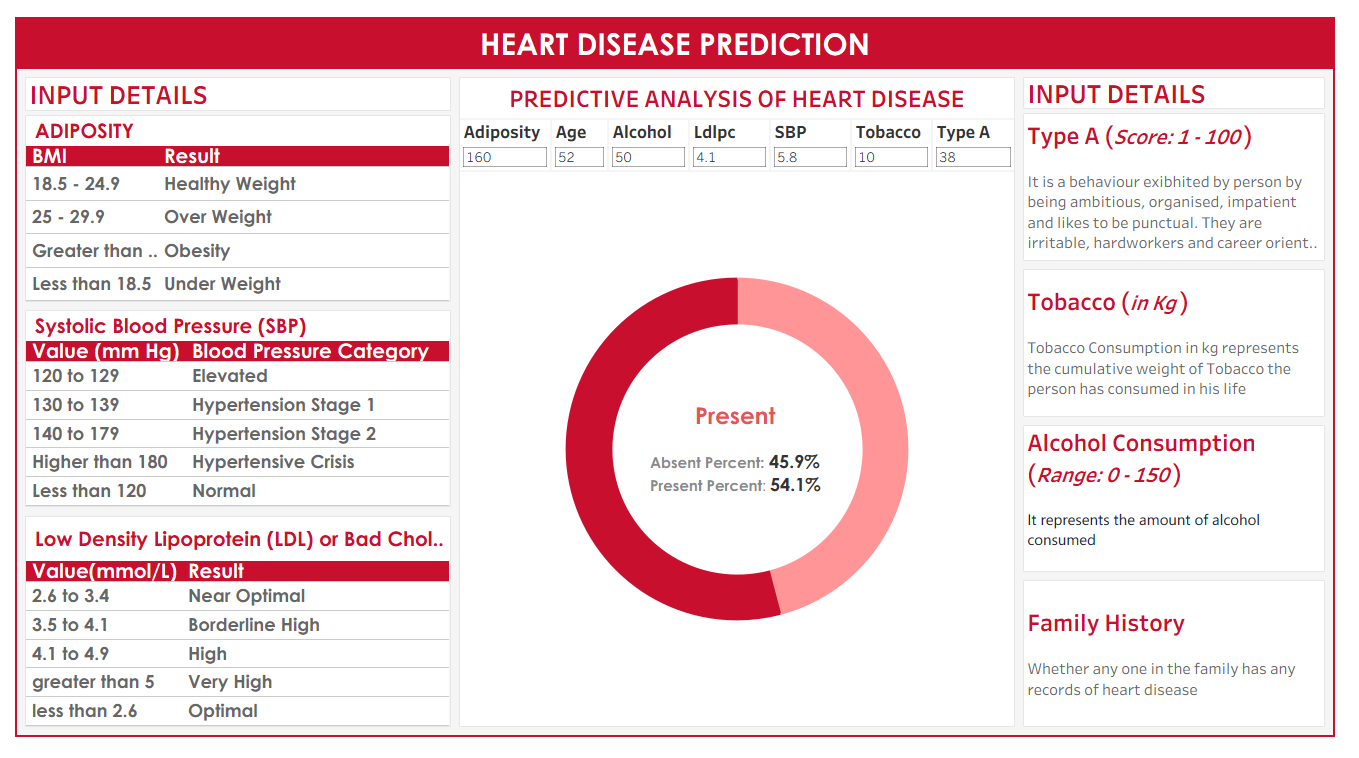

The page's visual inventory and layout, read from the dashboard file:
{"tool":"tableau","page":{"name":"Dashboard 1","canvas":[1320,720],"ordinal":0},"visuals":[{"type":"text","box":[2,2,1316,50]},{"type":"text","box":[6,60,434,34]},{"type":"text","box":[1004,60,310,32]},{"type":"text","box":[445,61,554,40]},{"type":"text","box":[1004,92,310,156]},{"type":"text","box":[11,99,424,30]},{"type":"parameter","param":"[Parameters].[Parameter 1]","box":[445,101,92,54]},{"type":"parameter","param":"[Parameters].[Parameter 2]","box":[537,101,57,54]},{"type":"parameter","param":"[Parameters].[Parameter 3]","box":[594,101,81,54]},{"type":"parameter","param":"[Parameters].[Parameter 4]","box":[675,101,81,54]},{"type":"parameter","param":"[Parameters].[Parameter 6]","box":[756,101,81,54]},{"type":"parameter","param":"[Parameters].[Parameter 7]","box":[837,101,81,54]},{"type":"parameter","param":"[Parameters].[Parameter 8]","box":[918,101,81,54]},{"type":"worksheet","title":"Adiposity","mark":"Automatic","rows":["BMI","Result"],"box":[11,129,424,155.3]},{"type":"worksheet","title":"Sheet 2","mark":"Pie","rows":["Calculation_948852149219139587","Calculation_948852149219155973"],"box":[445,155,554,554]},{"type":"text","box":[1004,248,310,156]},{"type":"text","box":[11,294.3,424,30]},{"type":"worksheet","title":"SBP","mark":"Automatic","rows":["Value (mm Hg)","Blood Pressure Category"],"box":[11,324.3,424,165.3]},{"type":"text","box":[1004,404,310,155]},{"type":"text","box":[11,499.7,424,44]},{"type":"worksheet","title":"LDL","mark":"Automatic","rows":["Value(mmol/L)","Result"],"box":[11,543.7,424,165.3]},{"type":"text","box":[1004,559,310,155]}]}

Visuals, with their boxes in screenshot pixels (x1, y1, x2, y2), scaled from the page's 1320x720 canvas onto the 1359x758 screenshot:
text: {"left": 2, "top": 2, "right": 1357, "bottom": 55}
text: {"left": 6, "top": 63, "right": 453, "bottom": 99}
text: {"left": 1034, "top": 63, "right": 1353, "bottom": 97}
text: {"left": 458, "top": 64, "right": 1029, "bottom": 106}
text: {"left": 1034, "top": 97, "right": 1353, "bottom": 261}
text: {"left": 11, "top": 104, "right": 448, "bottom": 136}
parameter: {"left": 458, "top": 106, "right": 553, "bottom": 163}
parameter: {"left": 553, "top": 106, "right": 612, "bottom": 163}
parameter: {"left": 612, "top": 106, "right": 695, "bottom": 163}
parameter: {"left": 695, "top": 106, "right": 778, "bottom": 163}
parameter: {"left": 778, "top": 106, "right": 862, "bottom": 163}
parameter: {"left": 862, "top": 106, "right": 945, "bottom": 163}
parameter: {"left": 945, "top": 106, "right": 1029, "bottom": 163}
"Adiposity" worksheet: {"left": 11, "top": 136, "right": 448, "bottom": 299}
"Sheet 2" worksheet (Pie marks): {"left": 458, "top": 163, "right": 1029, "bottom": 746}
text: {"left": 1034, "top": 261, "right": 1353, "bottom": 425}
text: {"left": 11, "top": 310, "right": 448, "bottom": 341}
"SBP" worksheet: {"left": 11, "top": 341, "right": 448, "bottom": 515}
text: {"left": 1034, "top": 425, "right": 1353, "bottom": 589}
text: {"left": 11, "top": 526, "right": 448, "bottom": 572}
"LDL" worksheet: {"left": 11, "top": 572, "right": 448, "bottom": 746}
text: {"left": 1034, "top": 589, "right": 1353, "bottom": 752}
